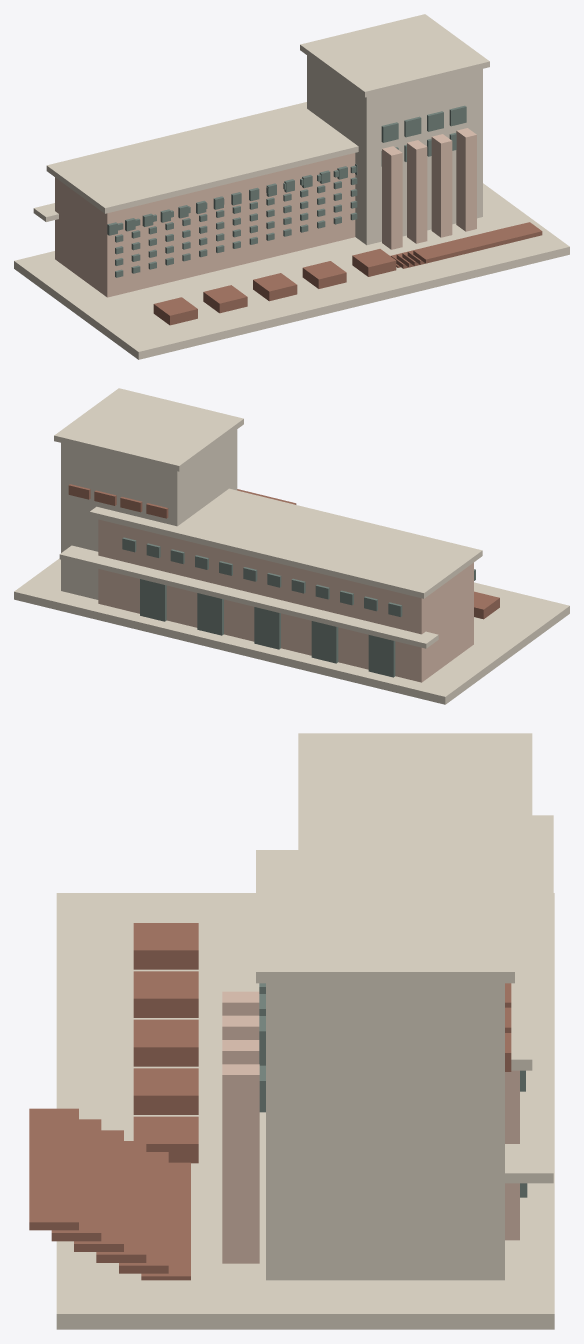
The model's file is van-kleef-aquarium.glb.
3 renders of one model, top to bottom at view 1: azimuth 30°, elevation 25°; view 2: azimuth 150°, elevation 25°; view 3: azimuth 270°, elevation 25°, orthographic. The views are drawn at different scales.
Parts seen in each view (by area): view 1: flat-roof-slabs/form (×2), landscaped-terrace/form, long-display-wing/form, entrance-block/form, entrance-piers/pier-3, entrance-piers/pier-1, entrance-piers/pier-2, entrance-piers/pier-4, broad-entry-stair/step-5, forecourt-planters/planter-1, forecourt-planters/planter-2, forecourt-planters/planter-5 (+2 smaller); view 2: flat-roof-slabs/form (×2), long-display-wing/form, landscaped-terrace/form, entrance-block/form, rear-aquarium-services/rear-service-canopy, rear-aquarium-services/filter-room-door-2, rear-aquarium-services/filter-room-door-1, rear-aquarium-services/filter-room-door-5, rear-aquarium-services/filter-room-door-3, rear-aquarium-services/filter-room-door-4, forecourt-planters/planter-1; view 3: entrance-block/form, landscaped-terrace/form, flat-roof-slabs/form (×2), rear-aquarium-services/rear-service-canopy, entrance-piers/pier-4, broad-entry-stair/step-5, forecourt-planters/planter-3, broad-entry-stair/step-4, broad-entry-stair/step-2, broad-entry-stair/step-1, broad-entry-stair/step-3, forecourt-planters/planter-1 (+8 smaller).
Boxes of the visible parts, <box> form: flat-roof-slabs/form (×2): <box>46,14,489,213</box>; landscaped-terrace/form: <box>14,183,569,359</box>; long-display-wing/form: <box>55,153,355,297</box>; entrance-block/form: <box>307,55,482,245</box>; entrance-piers/pier-3: <box>431,134,452,237</box>; entrance-piers/pier-1: <box>382,146,402,249</box>; entrance-piers/pier-2: <box>407,140,427,243</box>; entrance-piers/pier-4: <box>456,128,476,231</box>; broad-entry-stair/step-5: <box>413,222,542,263</box>; forecourt-planters/planter-1: <box>153,297,197,325</box>; forecourt-planters/planter-2: <box>203,285,247,313</box>; forecourt-planters/planter-5: <box>352,249,396,276</box>; flat-roof-slabs/form (×2): <box>54,388,482,598</box>; long-display-wing/form: <box>98,519,473,682</box>; landscaped-terrace/form: <box>14,558,569,704</box>; entrance-block/form: <box>61,429,237,599</box>; rear-aquarium-services/rear-service-canopy: <box>59,545,438,648</box>; rear-aquarium-services/filter-room-door-2: <box>311,621,338,663</box>; rear-aquarium-services/filter-room-door-1: <box>368,635,395,677</box>; rear-aquarium-services/filter-room-door-5: <box>140,579,166,621</box>; rear-aquarium-services/filter-room-door-3: <box>254,607,280,649</box>; rear-aquarium-services/filter-room-door-4: <box>197,593,223,635</box>; forecourt-planters/planter-1: <box>474,591,499,619</box>; entrance-block/form: <box>266,983,504,1280</box>; landscaped-terrace/form: <box>56,893,554,1329</box>; flat-roof-slabs/form (×2): <box>256,733,532,1070</box>; rear-aquarium-services/rear-service-canopy: <box>505,815,553,1183</box>; entrance-piers/pier-4: <box>222,1064,259,1263</box>; broad-entry-stair/step-5: <box>29,1108,78,1230</box>; forecourt-planters/planter-3: <box>133,1019,198,1066</box>; broad-entry-stair/step-4: <box>51,1119,101,1241</box>; broad-entry-stair/step-2: <box>96,1141,146,1262</box>; broad-entry-stair/step-1: <box>119,1152,168,1273</box>; broad-entry-stair/step-3: <box>74,1130,123,1251</box>; forecourt-planters/planter-1: <box>133,923,198,969</box>.
Bounding box in the file's own units: 20 × 7.27 × 10.55.
